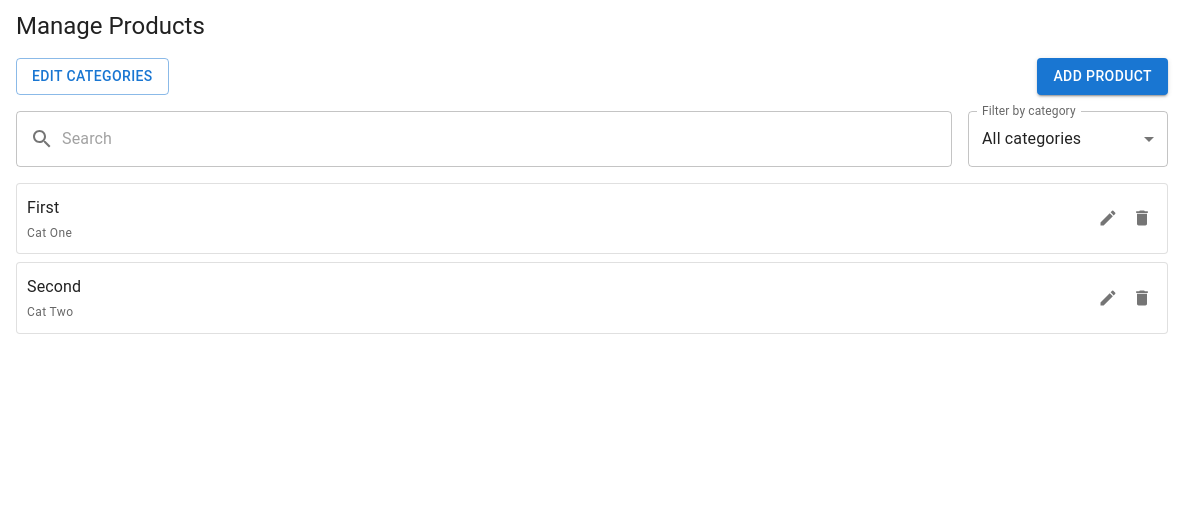
Test: ManageProductsScreen updateProduct › rethrows DuplicateNameError for ProductRow to handle
This screenshot has width=1186, height=523.
Click the button named "edit second".
click(1108, 298)  # box [1093,283,1123,313]
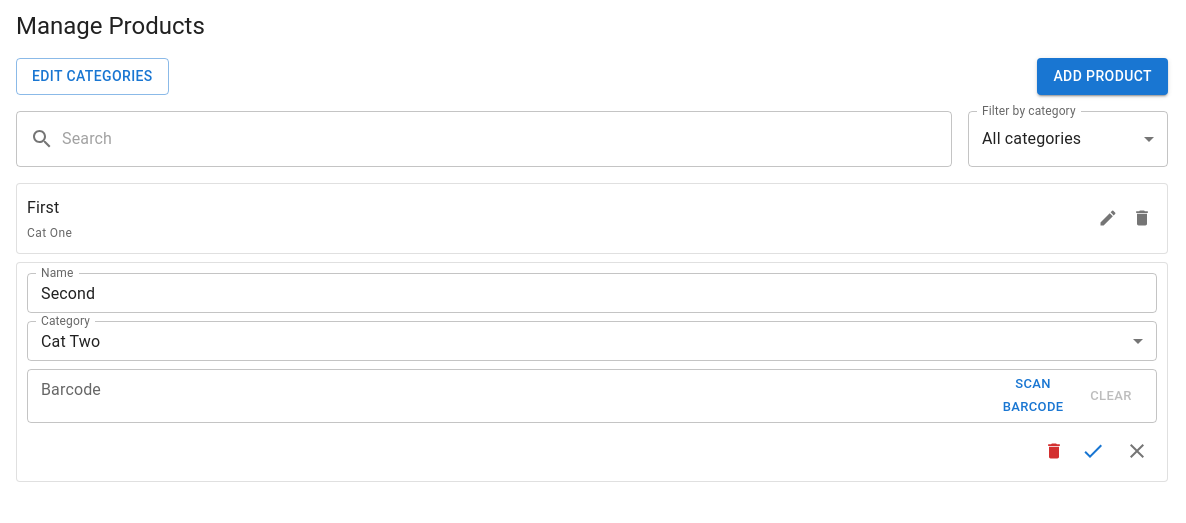
Replace the text in the field labelled "Name" with "First" at point(592, 293), box [27,273,1157,313]
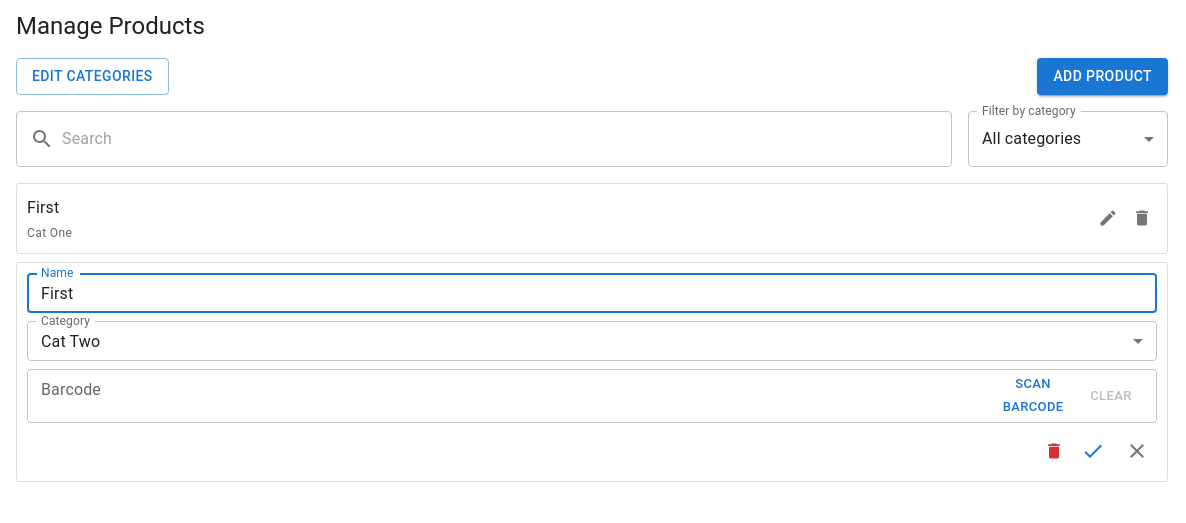
Click the button named "Save product".
click(1093, 451)  # box [1073,431,1113,471]
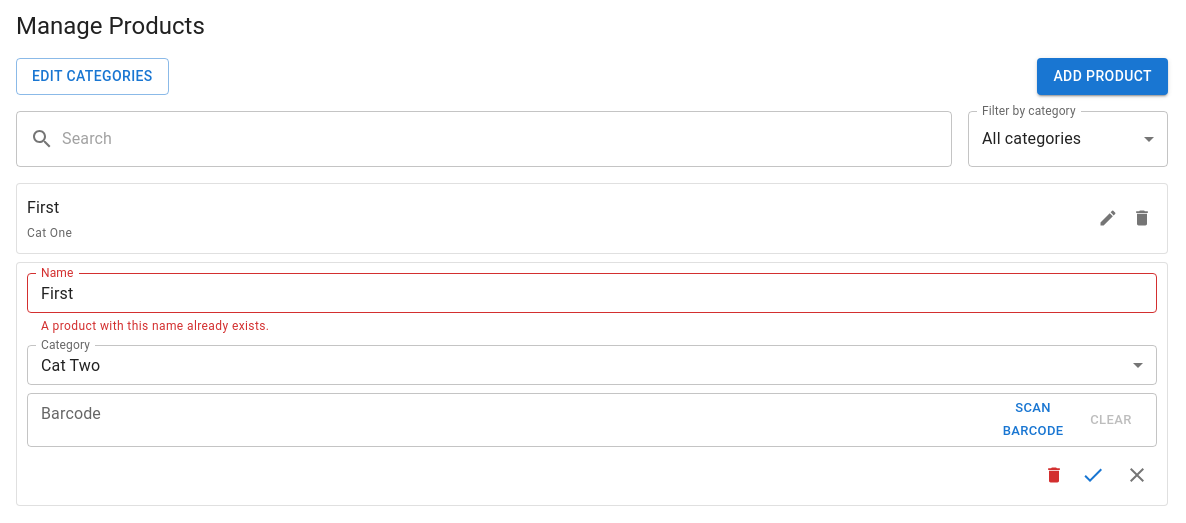
Expected: the text "A product with this name already exists." is shown, [41,319,269,333]
